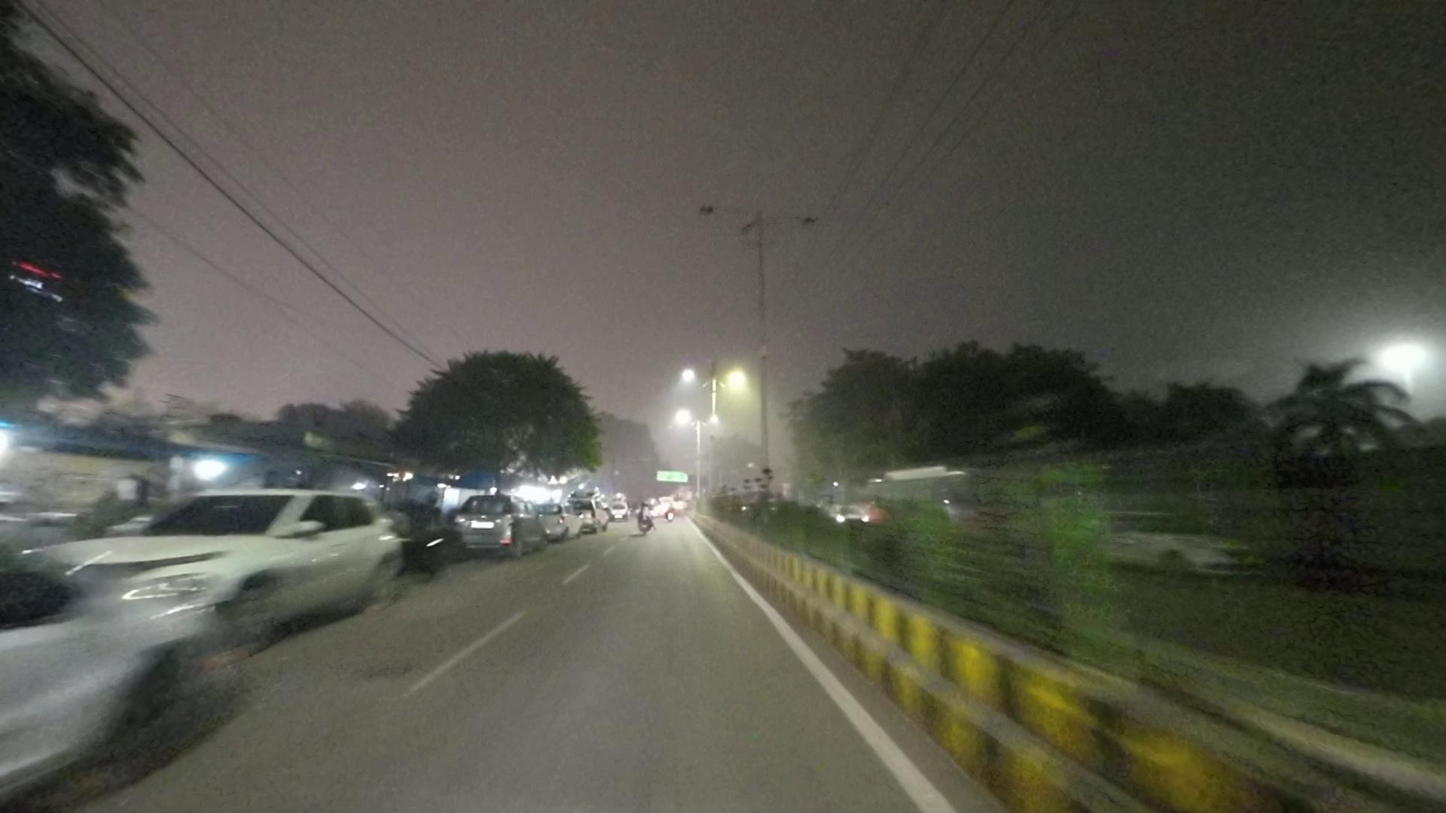streetlight: (697, 202, 756, 219), (763, 212, 820, 229)
